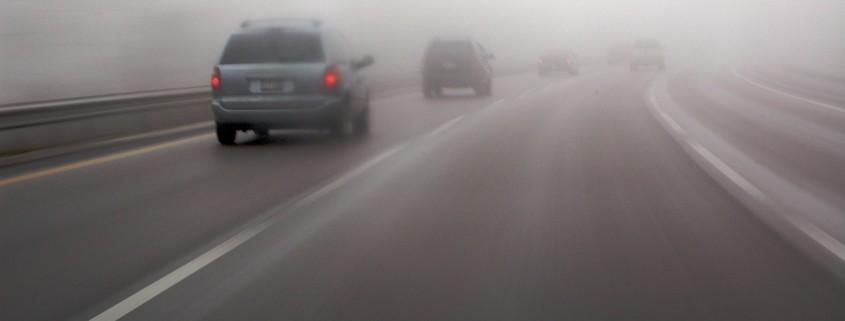car: (208, 16, 376, 146), (421, 33, 497, 99), (536, 47, 579, 76), (629, 38, 667, 70)
